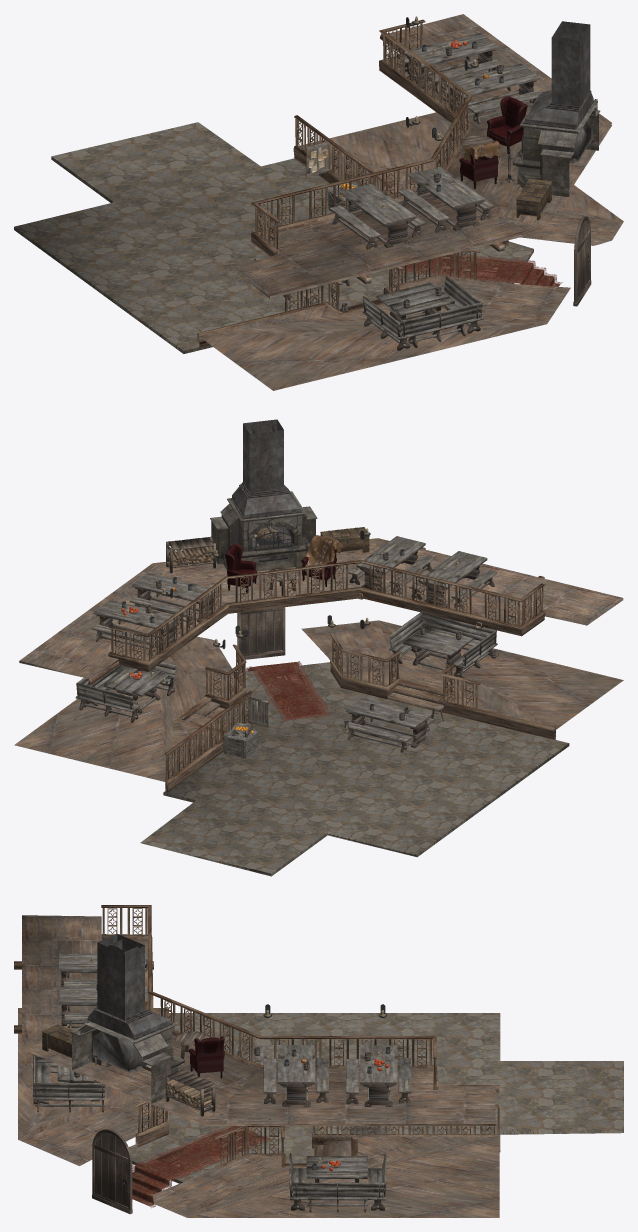
The model's file is tomoshibi_diorama.glb.
3 views of the same model, one above another, from view 1: azimuth 30°, elevation 25°; view 2: azimuth 150°, elevation 25°; view 3: azimuth 270°, elevation 25° (orthographic). The views are drawn at different scales.
Visible parts, largest first — view 1: KB3D_ECI_IntTavern_A_FloorC, KB3D_ECI_IntTavern_A_FloorA, KB3D_ECI_IntTavern_A_FireplaceA, KB3D_ECI_IntTavern_A_TableK, KB3D_ECI_IntTavern_A_TableE, KB3D_ECI_IntTavern_A_TableD, KB3D_ECI_IntTavern_A_Carpet, KB3D_ECI_IntTavern_A_TableC, KB3D_ECI_IntTavern_A_TableB, KB3D_ECI_IntTavern_A_ChairA, KB3D_ECI_IntTavern_A_ChairB, KB3D_ECI_IntTavern_A_DoorB (+2 smaller); view 2: KB3D_ECI_IntTavern_A_FloorC, KB3D_ECI_IntTavern_A_FloorA, KB3D_ECI_IntTavern_A_FireplaceA, KB3D_ECI_IntTavern_A_TableK, KB3D_ECI_IntTavern_A_TableA, KB3D_ECI_IntTavern_A_Carpet, KB3D_ECI_IntTavern_A_TableG, KB3D_ECI_IntTavern_A_TableD, KB3D_ECI_IntTavern_A_DoorB, KB3D_ECI_IntTavern_A_TableE, KB3D_ECI_IntTavern_A_TableB, KB3D_ECI_IntTavern_A_TableC (+5 smaller); view 3: KB3D_ECI_IntTavern_A_FloorC, KB3D_ECI_IntTavern_A_FloorA, KB3D_ECI_IntTavern_A_FireplaceA, KB3D_ECI_IntTavern_A_TableA, KB3D_ECI_IntTavern_A_Carpet, KB3D_ECI_IntTavern_A_TableC, KB3D_ECI_IntTavern_A_TableB, KB3D_ECI_IntTavern_A_DoorB, KB3D_ECI_IntTavern_A_TableK, KB3D_ECI_IntTavern_A_FireWood, KB3D_ECI_IntTavern_A_TableD, KB3D_ECI_IntTavern_A_ChairA (+2 smaller).
Boxes of the visible parts, x1,y1,x2,y2 form: KB3D_ECI_IntTavern_A_FloorC: (14, 112, 623, 390); KB3D_ECI_IntTavern_A_FloorA: (229, 14, 611, 298); KB3D_ECI_IntTavern_A_FireplaceA: (505, 21, 600, 196); KB3D_ECI_IntTavern_A_TableK: (362, 276, 483, 350); KB3D_ECI_IntTavern_A_TableE: (329, 183, 426, 249); KB3D_ECI_IntTavern_A_TableD: (398, 166, 494, 232); KB3D_ECI_IntTavern_A_Carpet: (388, 253, 562, 286); KB3D_ECI_IntTavern_A_TableC: (442, 63, 540, 124); KB3D_ECI_IntTavern_A_TableB: (398, 33, 503, 93); KB3D_ECI_IntTavern_A_ChairA: (487, 96, 527, 153); KB3D_ECI_IntTavern_A_ChairB: (459, 140, 500, 188); KB3D_ECI_IntTavern_A_DoorB: (573, 216, 591, 306); KB3D_ECI_IntTavern_A_FloorC: (14, 620, 623, 876); KB3D_ECI_IntTavern_A_FloorA: (19, 538, 623, 685); KB3D_ECI_IntTavern_A_FireplaceA: (210, 419, 317, 571); KB3D_ECI_IntTavern_A_TableK: (389, 612, 497, 678); KB3D_ECI_IntTavern_A_TableA: (75, 662, 175, 722); KB3D_ECI_IntTavern_A_Carpet: (245, 661, 331, 720); KB3D_ECI_IntTavern_A_TableG: (343, 698, 434, 752); KB3D_ECI_IntTavern_A_TableD: (348, 536, 435, 594); KB3D_ECI_IntTavern_A_DoorB: (237, 607, 285, 659); KB3D_ECI_IntTavern_A_TableE: (409, 551, 497, 609); KB3D_ECI_IntTavern_A_TableB: (91, 600, 180, 654); KB3D_ECI_IntTavern_A_TableC: (129, 572, 219, 627); KB3D_ECI_IntTavern_A_FloorC: (18, 1007, 623, 1217); KB3D_ECI_IntTavern_A_FloorA: (14, 905, 499, 1125); KB3D_ECI_IntTavern_A_FireplaceA: (70, 934, 184, 1103); KB3D_ECI_IntTavern_A_TableA: (289, 1153, 386, 1212); KB3D_ECI_IntTavern_A_Carpet: (132, 1126, 273, 1207); KB3D_ECI_IntTavern_A_TableC: (263, 1045, 328, 1106); KB3D_ECI_IntTavern_A_TableB: (346, 1045, 411, 1106); KB3D_ECI_IntTavern_A_DoorB: (92, 1129, 132, 1214); KB3D_ECI_IntTavern_A_TableK: (32, 1054, 105, 1112); KB3D_ECI_IntTavern_A_FireWood: (165, 1068, 215, 1116); KB3D_ECI_IntTavern_A_TableD: (59, 986, 147, 1029); KB3D_ECI_IntTavern_A_ChairA: (188, 1036, 224, 1078).
Bounding box in the file's own units: 14.51 × 8.16 × 17.28.
Materials: 23 (23 with a texture image).
